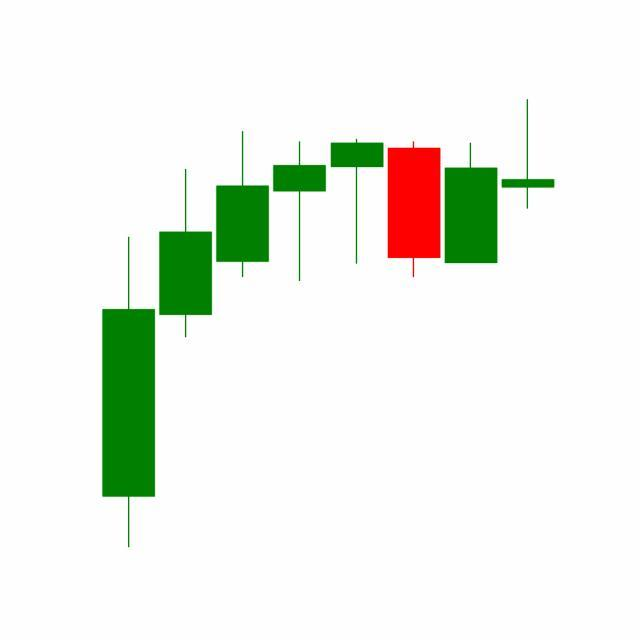Hikkake Pattern: (270, 100, 555, 285)
